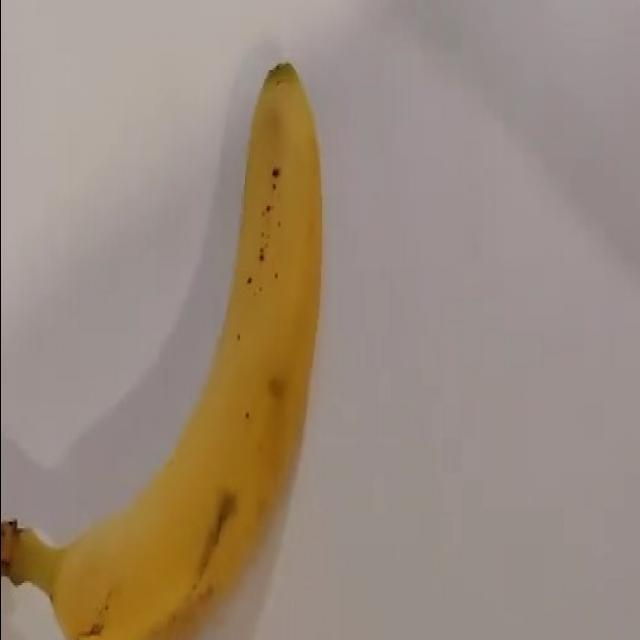Banana: (17, 57, 326, 640)
